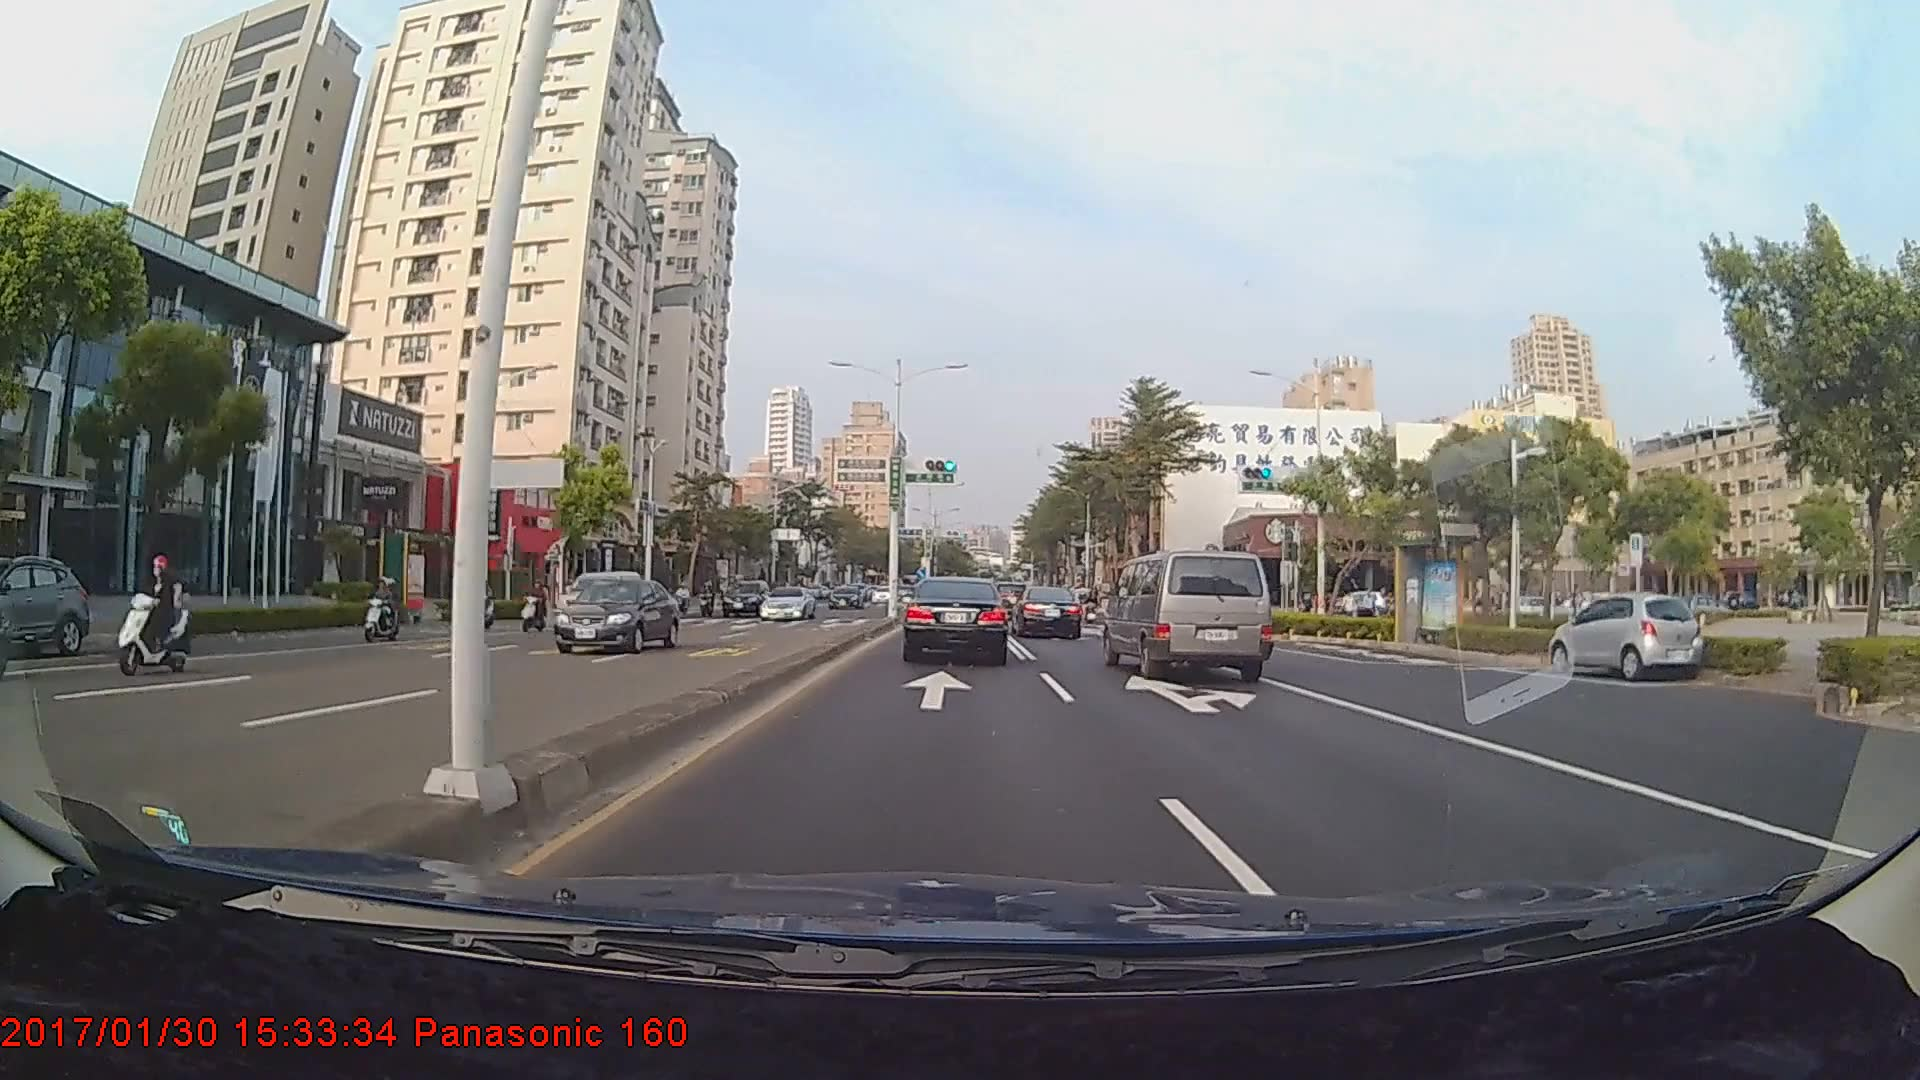rider: (114, 548, 200, 684), (139, 573, 203, 655), (357, 576, 405, 643), (517, 579, 550, 637)
vehicle: (1106, 546, 1275, 686), (1545, 591, 1703, 679), (552, 578, 683, 656), (902, 576, 1007, 665), (0, 564, 90, 651), (549, 570, 644, 628), (1008, 585, 1084, 639), (756, 585, 816, 621), (719, 578, 770, 617), (827, 583, 870, 612)
